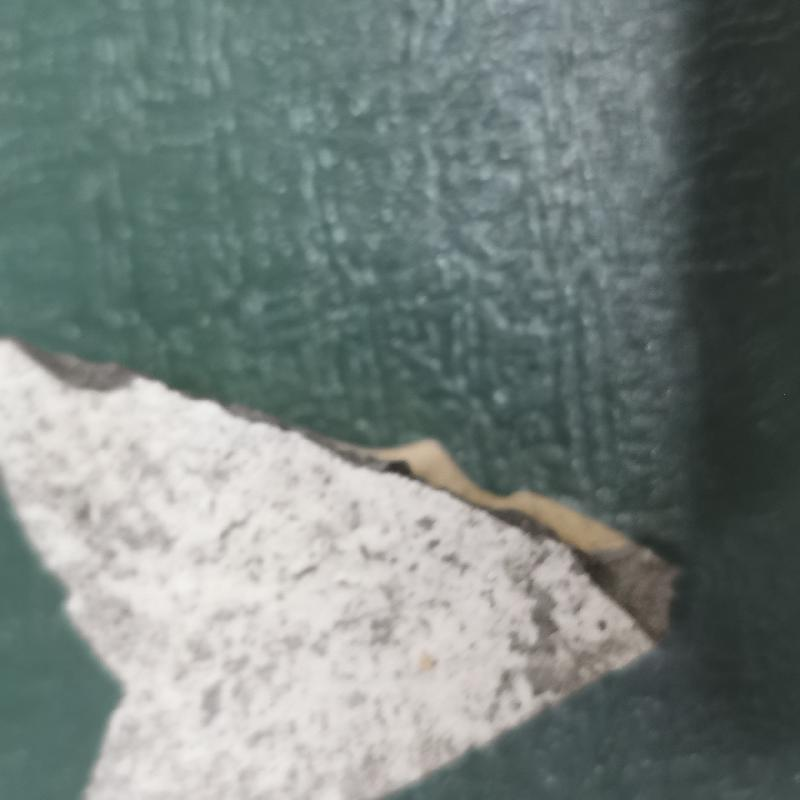tile: (4, 326, 682, 800)
